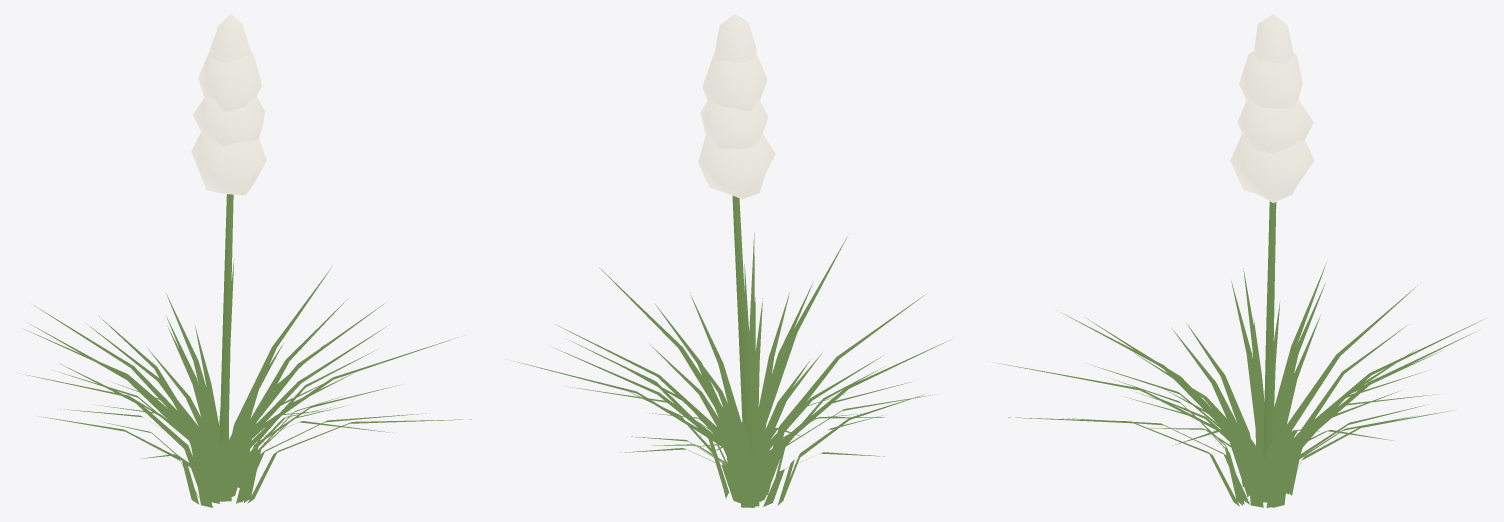
File: Blender_Beargrass_1.glb
3 renders of one model, left to right at view 1: azimuth 30°, elevation 25°; view 2: azimuth 150°, elevation 25°; view 3: azimuth 270°, elevation 25°, orthographic. The views are drawn at different scales.
Visible parts, largest first — view 1: Blender_Beargrass_1; view 2: Blender_Beargrass_1; view 3: Blender_Beargrass_1.
Part boxes in pixels (<box>): Blender_Beargrass_1: <box>19,14,471,507</box>; Blender_Beargrass_1: <box>513,14,949,507</box>; Blender_Beargrass_1: <box>995,14,1485,507</box>.
Bounding box in the file's own units: 1.28 × 1.54 × 1.44.
